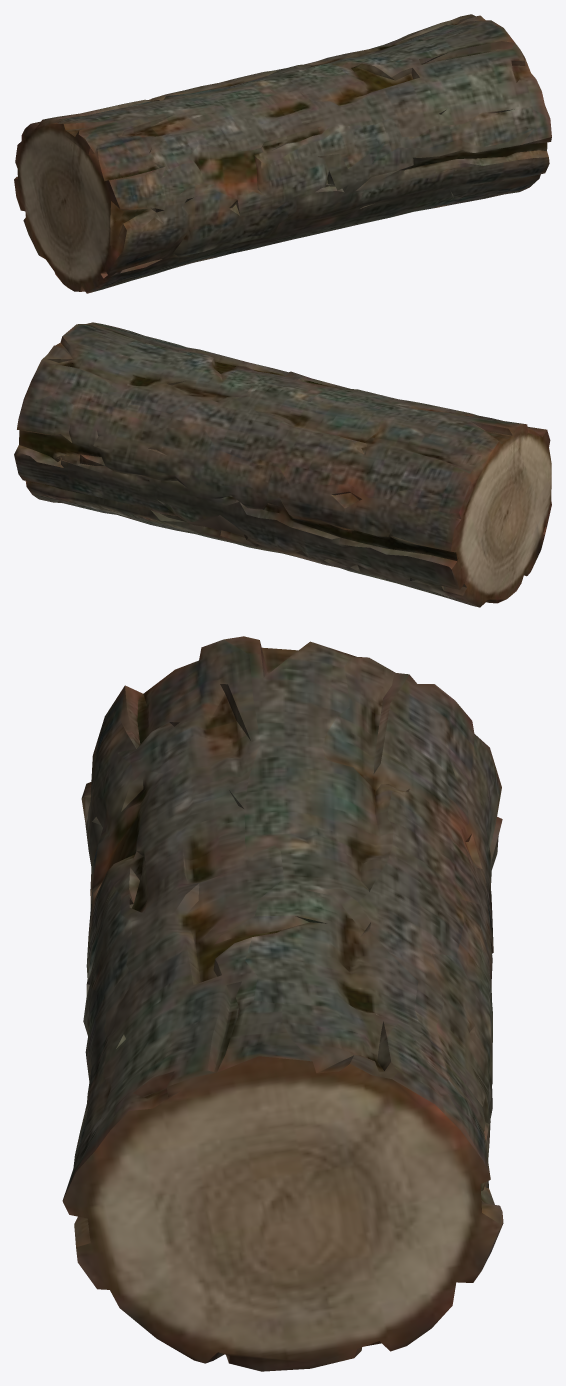
The model's file is logseat.glb.
3 renders of one model, top to bottom at view 1: azimuth 30°, elevation 25°; view 2: azimuth 150°, elevation 25°; view 3: azimuth 270°, elevation 25°, orthographic. The views are drawn at different scales.
Parts seen in each view (by area): view 1: logseat; view 2: logseat; view 3: logseat.
Boxes of the visible parts, box(x1,y1,x2,y2) form: logseat: box(14, 14, 551, 293); logseat: box(14, 322, 551, 607); logseat: box(62, 636, 503, 1371).
Bounding box in the file's own units: 1.18 × 0.42 × 0.5191.
1 material, 1 textured.
